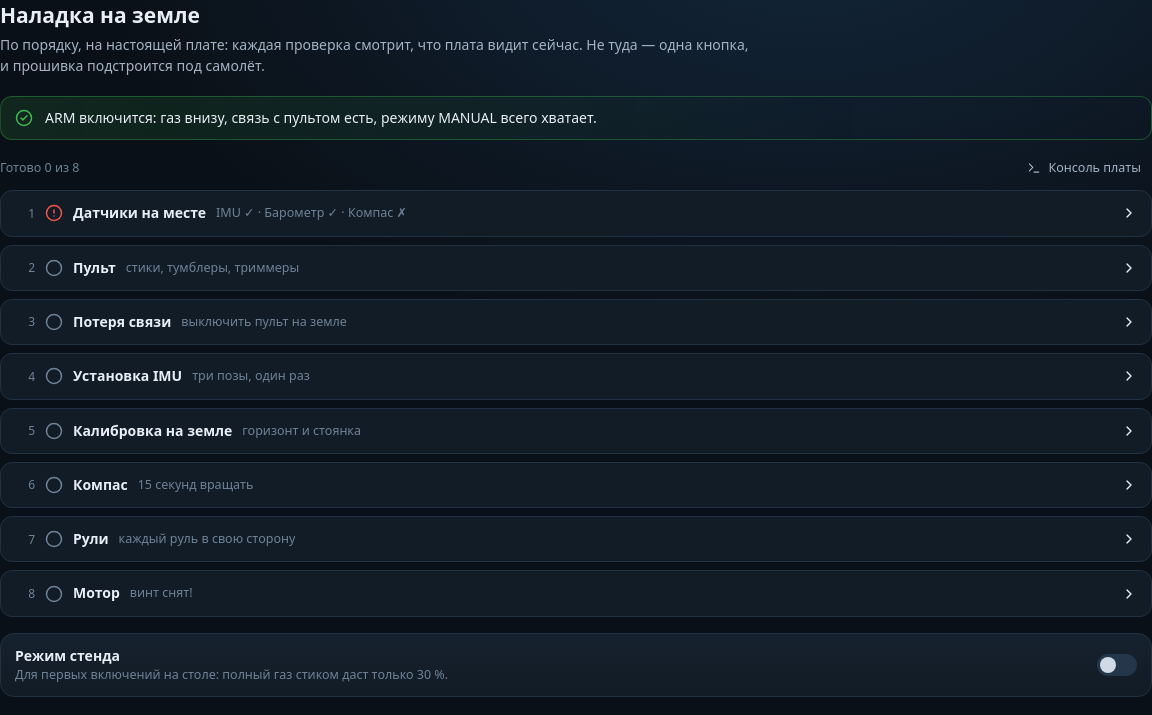
Test: мастер наладки на фейковой плате › датчик на месте и датчик, что молчит, — с адресами
Step 1. Click the text "Датчики на месте" → x=140, y=213, box [73,203,206,224]
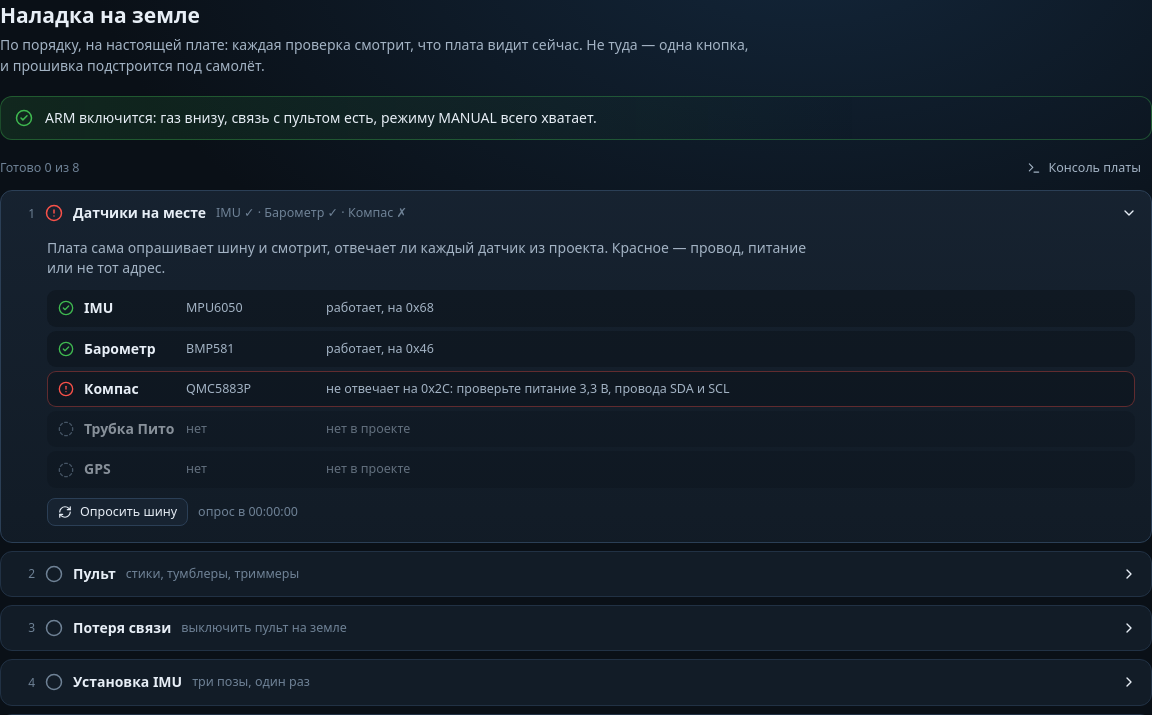
Expected: the text "работает, на 0x68" is shown, [326,299,434,316]
Expected: the text "не отвечает на 0x2C" is shown, [326,380,730,397]
